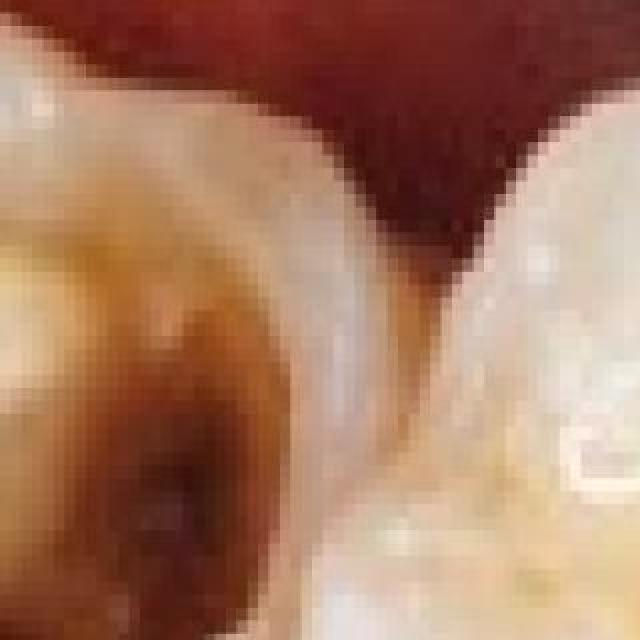cavities: (10, 12, 420, 640)
